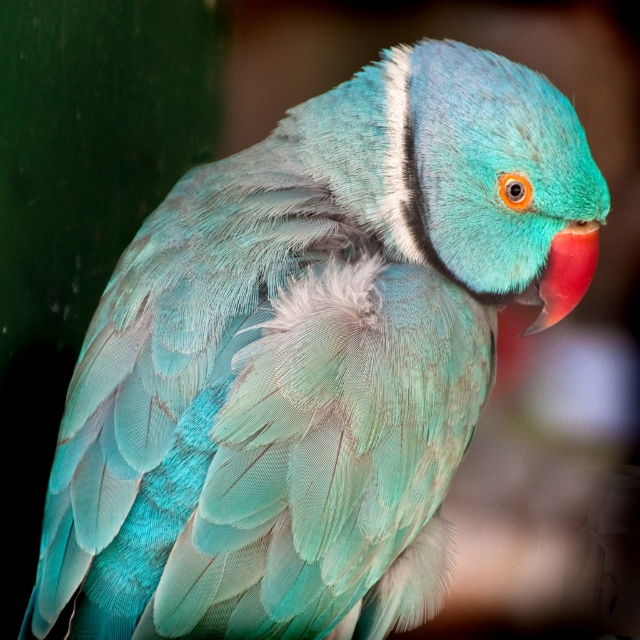Parrot: (12, 30, 619, 640)
